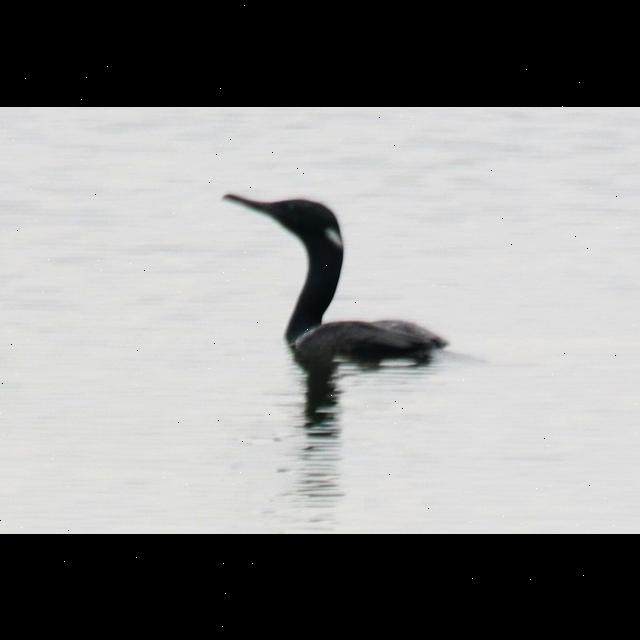cormorant: (218, 186, 440, 410)
